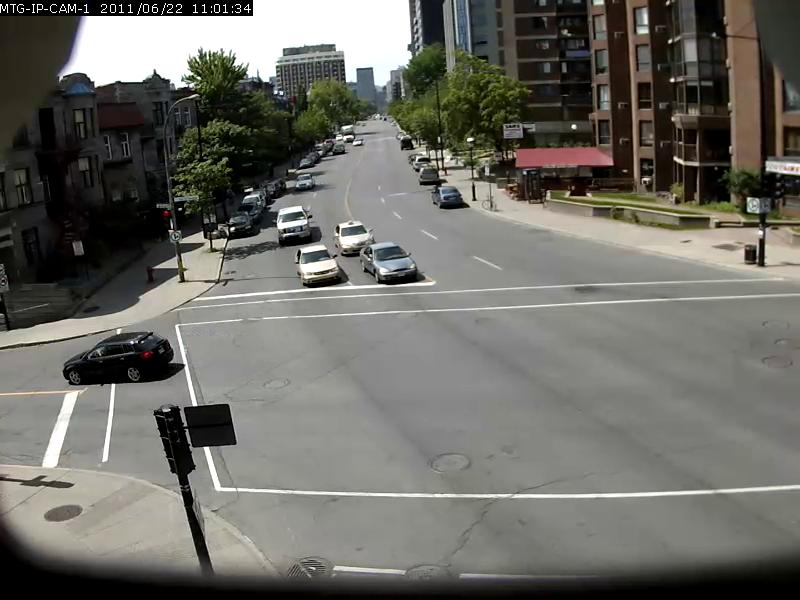Car: (360, 242, 417, 284), (295, 243, 340, 288), (334, 219, 376, 255), (276, 205, 311, 240), (294, 174, 313, 192)
